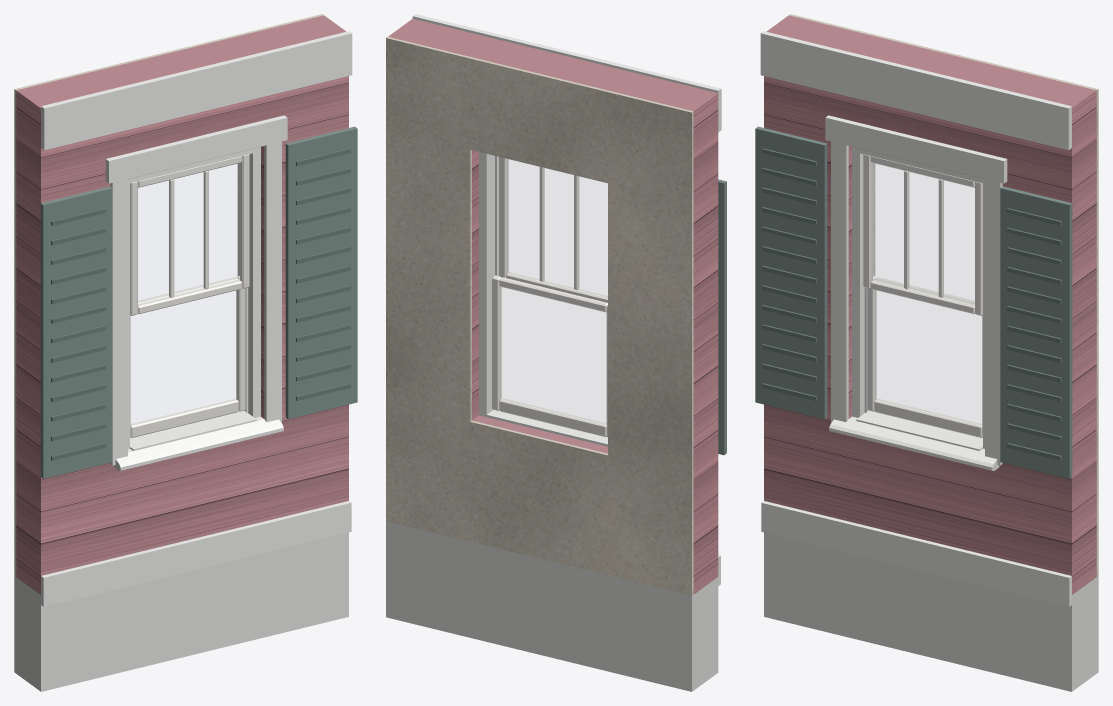
File: wall_a_window.glb
The picture shows the model from 3 angles, left to right: view 1: azimuth 30°, elevation 25°; view 2: azimuth 150°, elevation 25°; view 3: azimuth 330°, elevation 25°; orthographic projection.
Parts seen in each view (by area): view 1: wall_a_window_siding_a, wall_a_window_trim, wall_a_window_shutter, wall_a_window_lattice, folha_glass, wall_a_window_glass, wall_a_window_shutter_dark, wall_a_window_sash, wall_a_window_frame, folha_sash, wall_a_window_plaster; view 2: wall_a_window_plaster, wall_a_window_lattice, wall_a_window_siding_a, folha_glass, wall_a_window_glass, folha_sash, wall_a_window_frame, wall_a_window_sash, wall_a_window_trim, wall_a_window_shutter; view 3: wall_a_window_siding_a, wall_a_window_trim, wall_a_window_shutter, wall_a_window_lattice, folha_glass, wall_a_window_glass, wall_a_window_shutter_dark, wall_a_window_sash, wall_a_window_frame, folha_sash, wall_a_window_plaster.
Part boxes in pixels (left/top/right/bottom): wall_a_window_siding_a: left=16, top=15, right=348, bottom=594; wall_a_window_trim: left=41, top=31, right=352, bottom=606; wall_a_window_shutter: left=40, top=126, right=357, bottom=478; wall_a_window_lattice: left=14, top=532, right=348, bottom=691; folha_glass: left=131, top=291, right=236, bottom=424; wall_a_window_glass: left=138, top=163, right=240, bottom=304; wall_a_window_shutter_dark: left=51, top=148, right=350, bottom=460; wall_a_window_sash: left=130, top=154, right=249, bottom=315; wall_a_window_frame: left=128, top=147, right=260, bottom=448; folha_sash: left=130, top=276, right=245, bottom=437; wall_a_window_plaster: left=14, top=14, right=323, bottom=576; wall_a_window_plaster: left=386, top=37, right=693, bottom=595; wall_a_window_lattice: left=386, top=521, right=718, bottom=691; wall_a_window_siding_a: left=388, top=18, right=718, bottom=594; folha_glass: left=501, top=287, right=605, bottom=423; wall_a_window_glass: left=508, top=160, right=607, bottom=296; folha_sash: left=492, top=275, right=607, bottom=437; wall_a_window_frame: left=479, top=152, right=498, bottom=416; wall_a_window_sash: left=499, top=157, right=607, bottom=302; wall_a_window_trim: left=412, top=14, right=721, bottom=585; wall_a_window_shutter: left=718, top=179, right=726, bottom=455; wall_a_window_siding_a: left=764, top=15, right=1096, bottom=594; wall_a_window_trim: left=760, top=31, right=1071, bottom=606; wall_a_window_shutter: left=755, top=126, right=1072, bottom=478; wall_a_window_lattice: left=764, top=532, right=1098, bottom=691; folha_glass: left=876, top=291, right=981, bottom=424; wall_a_window_glass: left=872, top=163, right=974, bottom=304; wall_a_window_shutter_dark: left=762, top=148, right=1061, bottom=460; wall_a_window_sash: left=863, top=154, right=982, bottom=315; wall_a_window_frame: left=852, top=147, right=984, bottom=448; folha_sash: left=867, top=276, right=982, bottom=437; wall_a_window_plaster: left=789, top=14, right=1098, bottom=576.
Size of the model in its own units: 2.04 by 3.63 by 0.38.
9 materials, 2 textured.
